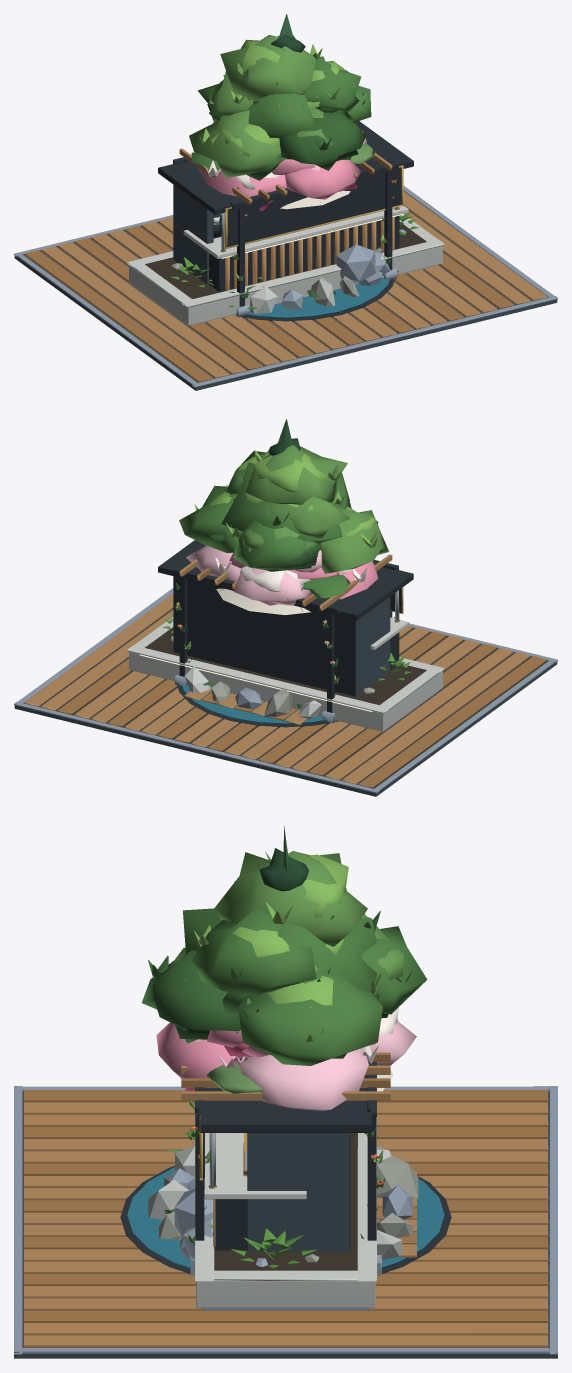
Rendered from exterior-landscape.glb.
The picture shows the model from 3 angles, top to bottom: view 1: azimuth 30°, elevation 25°; view 2: azimuth 150°, elevation 25°; view 3: azimuth 270°, elevation 25°; orthographic projection. The views are drawn at different scales.
Parts seen in each view (by area): view 1: exterior-cafe-deck / Exterior honey oak slat, exterior-cafe-kiosk / Powdercoated charcoal steel, exterior-cafe-deck / Exterior warm teak slat, exterior-shade-tree / Botanical olive canopy, exterior-cafe-deck / Architectural slate metal, exterior-shade-tree / Botanical mid canopy, exterior-cafe-deck / Architectural grey plinth, exterior-garden-planter / Limestone planter cladding, exterior-blossom-tree / Botanical soft rose, exterior-shade-tree / Botanical deep canopy, exterior-garden-planter / Honed limestone coping, exterior-cafe-kiosk / Architectural slate metal (+13 smaller); view 2: exterior-cafe-deck / Exterior honey oak slat, exterior-cafe-kiosk / Powdercoated charcoal steel, exterior-cafe-deck / Exterior warm teak slat, exterior-shade-tree / Botanical olive canopy, exterior-shade-tree / Botanical mid canopy, exterior-cafe-deck / Architectural slate metal, exterior-cafe-deck / Architectural grey plinth, exterior-garden-planter / Limestone planter cladding, exterior-garden-planter / Honed limestone coping, exterior-cafe-kiosk / Architectural slate metal, exterior-blossom-tree / Sakura blush petal, exterior-shade-tree / Botanical sunlit canopy (+12 smaller); view 3: exterior-cafe-deck / Exterior honey oak slat, exterior-cafe-deck / Exterior warm teak slat, exterior-shade-tree / Botanical mid canopy, exterior-cafe-kiosk / Architectural slate metal, exterior-cafe-deck / Architectural grey plinth, exterior-cafe-kiosk / Powdercoated charcoal steel, exterior-shade-tree / Botanical olive canopy, exterior-blossom-tree / Sakura blush petal, exterior-garden-planter / Limestone planter cladding, exterior-shade-tree / Botanical deep canopy, exterior-garden-planter / Honed limestone coping, exterior-shade-tree / Botanical sunlit canopy (+15 smaller).
Boxes of the visible parts, <box> form: exterior-cafe-deck / Exterior honey oak slat: <box>41,191,547,378</box>; exterior-cafe-kiosk / Powdercoated charcoal steel: <box>158,121,413,291</box>; exterior-cafe-deck / Exterior warm teak slat: <box>24,225,513,382</box>; exterior-shade-tree / Botanical olive canopy: <box>189,35,357,177</box>; exterior-cafe-deck / Architectural slate metal: <box>14,210,557,390</box>; exterior-shade-tree / Botanical mid canopy: <box>198,56,371,138</box>; exterior-cafe-deck / Architectural grey plinth: <box>14,186,557,387</box>; exterior-garden-planter / Limestone planter cladding: <box>129,246,442,325</box>; exterior-blossom-tree / Botanical soft rose: <box>198,159,361,199</box>; exterior-shade-tree / Botanical deep canopy: <box>246,94,365,180</box>; exterior-garden-planter / Honed limestone coping: <box>127,214,444,307</box>; exterior-cafe-kiosk / Architectural slate metal: <box>173,184,221,284</box>; exterior-cafe-deck / Exterior honey oak slat: <box>24,593,530,784</box>; exterior-cafe-kiosk / Powdercoated charcoal steel: <box>158,540,413,696</box>; exterior-cafe-deck / Exterior warm teak slat: <box>58,631,547,788</box>; exterior-shade-tree / Botanical olive canopy: <box>230,445,389,573</box>; exterior-shade-tree / Botanical mid canopy: <box>179,451,349,570</box>; exterior-cafe-deck / Architectural slate metal: <box>14,609,557,796</box>; exterior-cafe-deck / Architectural grey plinth: <box>14,588,557,793</box>; exterior-garden-planter / Limestone planter cladding: <box>129,652,442,731</box>; exterior-garden-planter / Honed limestone coping: <box>127,617,444,713</box>; exterior-cafe-kiosk / Architectural slate metal: <box>173,576,390,696</box>; exterior-blossom-tree / Sakura blush petal: <box>186,545,321,605</box>; exterior-shade-tree / Botanical sunlit canopy: <box>194,449,378,548</box>; exterior-cafe-deck / Exterior honey oak slat: <box>23,1102,548,1347</box>; exterior-cafe-deck / Exterior warm teak slat: <box>23,1090,548,1323</box>; exterior-shade-tree / Botanical mid canopy: <box>183,908,427,1065</box>; exterior-cafe-kiosk / Architectural slate metal: <box>247,1133,349,1251</box>; exterior-cafe-deck / Architectural grey plinth: <box>14,1086,557,1354</box>; exterior-cafe-kiosk / Powdercoated charcoal steel: <box>200,1075,371,1250</box>; exterior-shade-tree / Botanical olive canopy: <box>159,848,403,1002</box>; exterior-blossom-tree / Sakura blush petal: <box>194,1016,416,1110</box>; exterior-garden-planter / Limestone planter cladding: <box>196,1148,375,1307</box>; exterior-shade-tree / Botanical deep canopy: <box>141,950,346,1058</box>; exterior-garden-planter / Honed limestone coping: <box>195,1117,376,1281</box>; exterior-shade-tree / Botanical sunlit canopy: <box>194,854,380,1041</box>.
Bounding box in the file's own units: 9.11 × 6.67 × 7.88.
